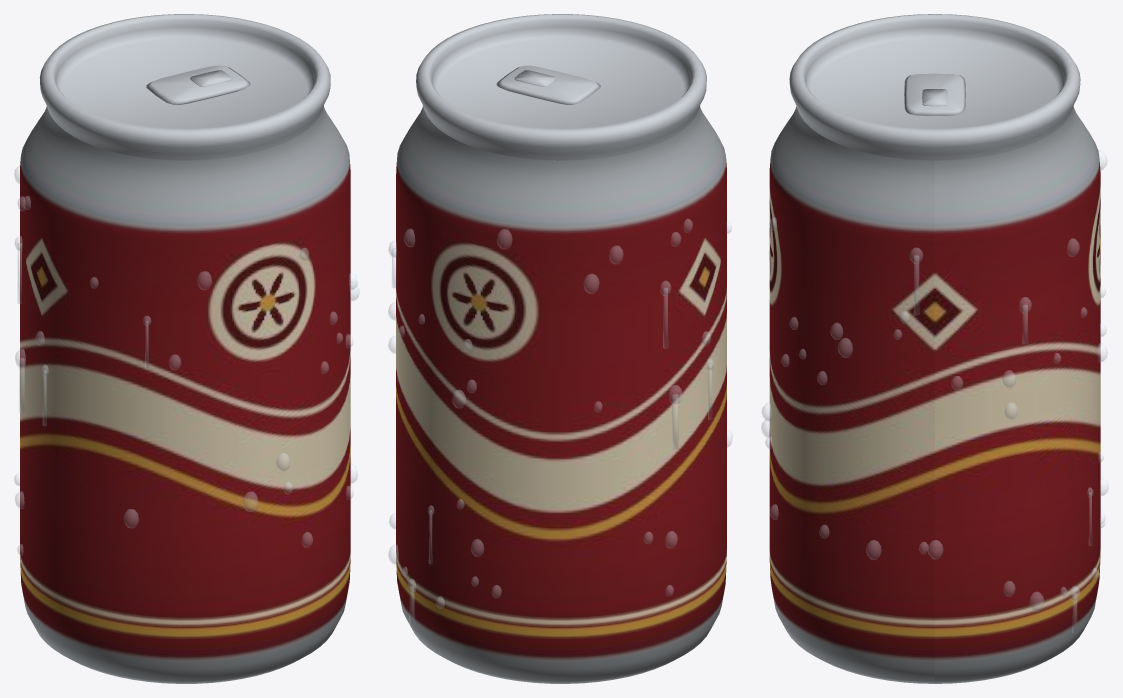
File: beb-lata.glb
3 views of the same model, side by side, from view 1: azimuth 30°, elevation 25°; view 2: azimuth 150°, elevation 25°; view 3: azimuth 270°, elevation 25° (orthographic).
Parts seen in each view (by area): view 1: lata_corpo, lata_tampa, lata_gotas; view 2: lata_corpo, lata_tampa, lata_gotas; view 3: lata_corpo, lata_tampa, lata_gotas.
Part boxes in pixels (bbox=[...]): lata_corpo: bbox=[20, 106, 350, 683]; lata_tampa: bbox=[39, 14, 330, 160]; lata_gotas: bbox=[14, 166, 359, 555]; lata_corpo: bbox=[396, 106, 726, 683]; lata_tampa: bbox=[416, 14, 706, 160]; lata_gotas: bbox=[388, 219, 732, 625]; lata_corpo: bbox=[769, 106, 1100, 683]; lata_tampa: bbox=[789, 14, 1080, 160]; lata_gotas: bbox=[761, 150, 1108, 632].
Bounding box in the file's own units: 0.0697 × 0.1222 × 0.0698.
3 materials, 1 textured.
